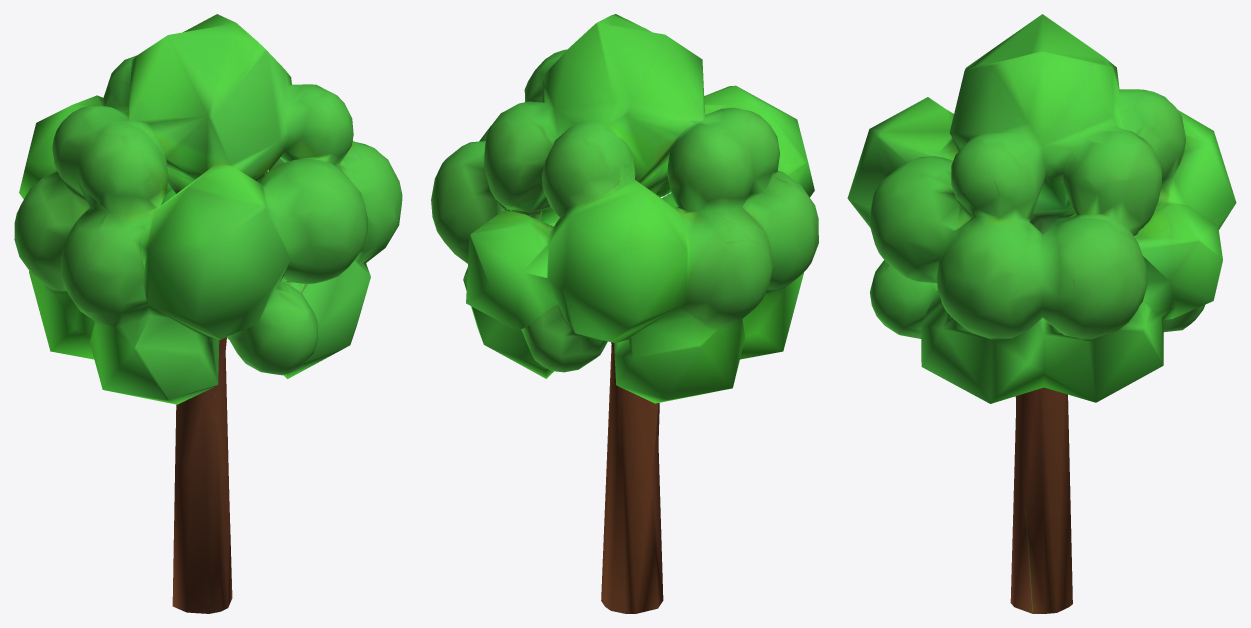
Rendered from tree.glb.
3 views of the same model, side by side, from view 1: azimuth 30°, elevation 25°; view 2: azimuth 150°, elevation 25°; view 3: azimuth 270°, elevation 25° (orthographic).
Visible parts, largest first — view 1: Mesh_0; view 2: Mesh_0; view 3: Mesh_0.
Boxes of the visible parts, x1,y1,x2,y2 form: Mesh_0: [14, 14, 402, 613]; Mesh_0: [431, 14, 818, 613]; Mesh_0: [847, 14, 1236, 613].
Size of the model in its own units: 1.8 by 3 by 1.85.
Materials: 1 (1 with a texture image).
